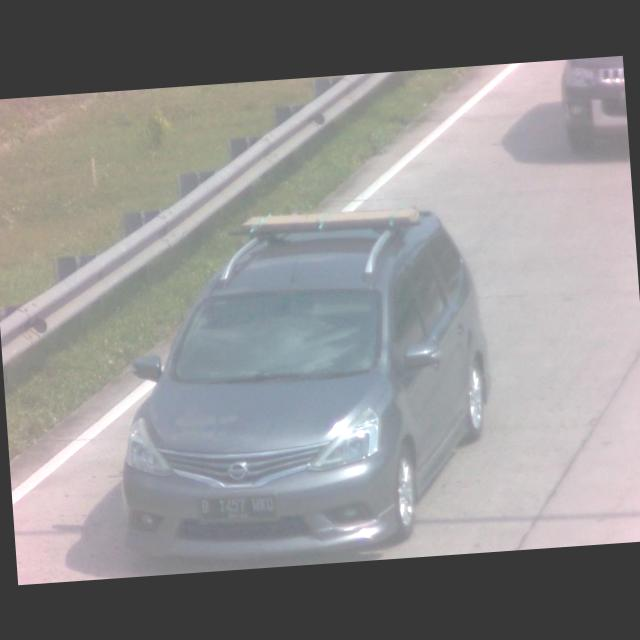plate: (192, 490, 282, 525)
